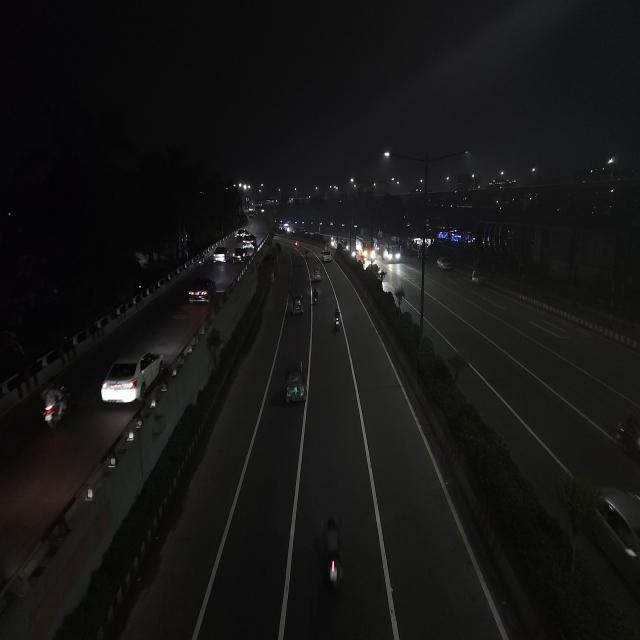bus: (382, 236, 402, 265), (356, 233, 374, 261)
car: (98, 346, 166, 410), (186, 277, 218, 306), (435, 255, 454, 273), (212, 247, 228, 265), (233, 246, 247, 262), (244, 233, 256, 249), (241, 230, 253, 244), (321, 248, 332, 263), (236, 227, 248, 240)
cng: (282, 360, 306, 407), (291, 292, 305, 316), (470, 266, 484, 287), (312, 266, 322, 284), (296, 254, 302, 267)
motorcycle: (315, 510, 349, 601), (38, 382, 72, 435), (330, 307, 344, 335), (310, 287, 320, 307)
